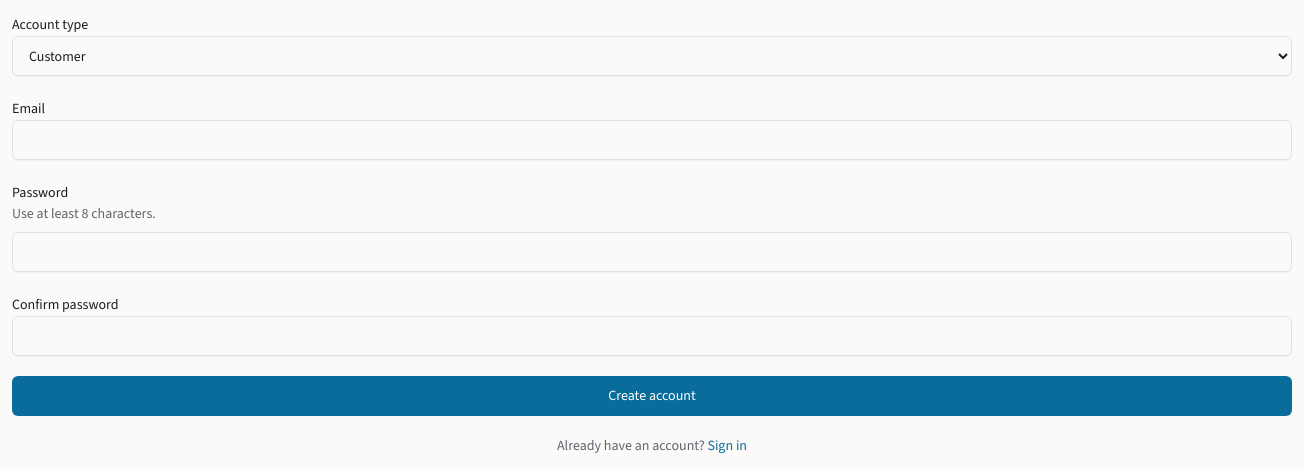
it: RegisterForm › shows loading state while submitting
In the field labelled "Email": (652, 140) [12,120,1292,160], type "new@example.com"
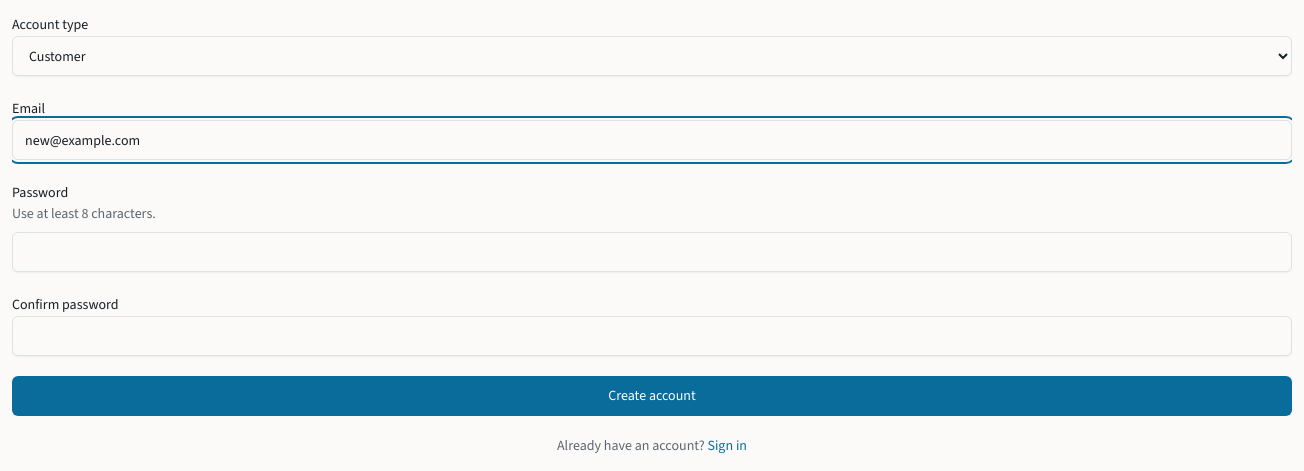
In the password field labelled "Password": (652, 252) [12,232,1292,272], type "SecurePass1!"
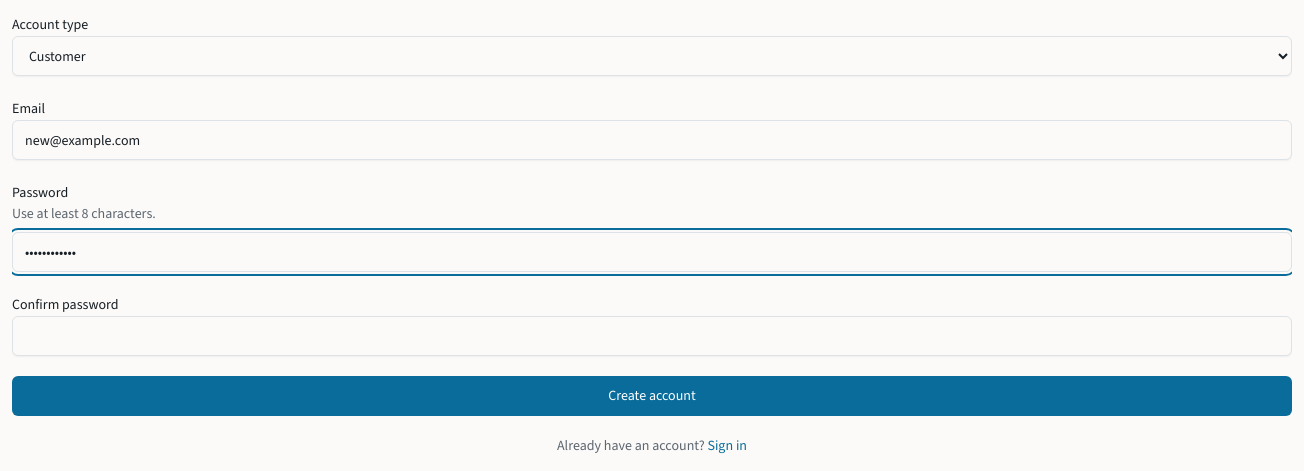
In the password field labelled "Confirm password": (652, 336) [12,316,1292,356], type "SecurePass1!"
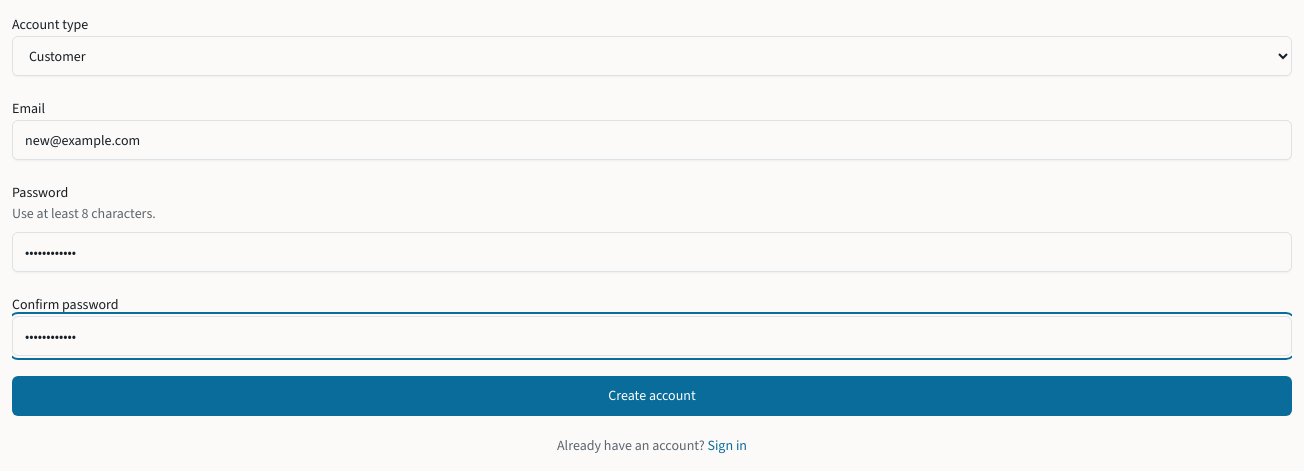
Click the button "Create account": (652, 396) [12,376,1292,416]
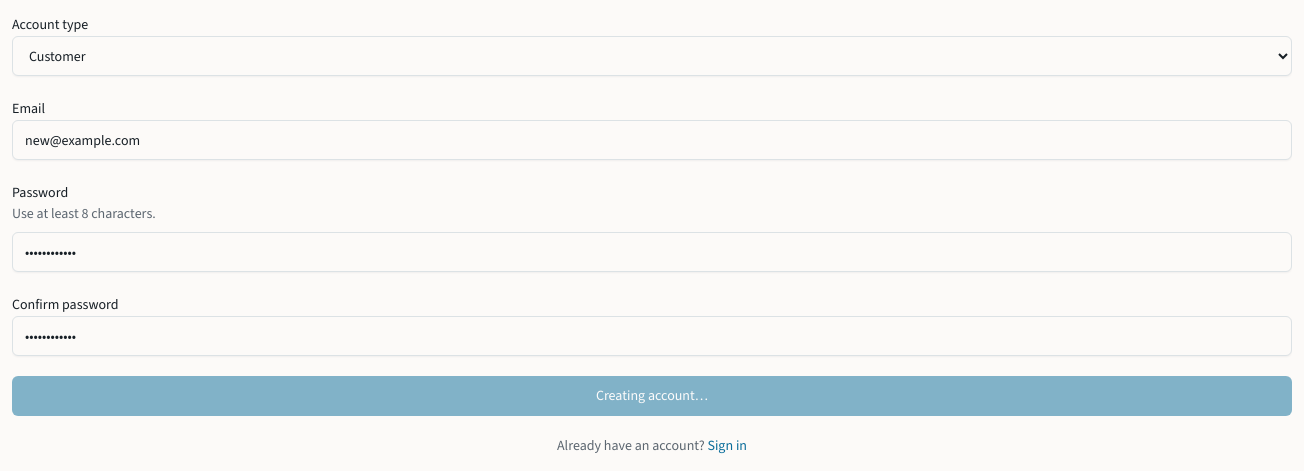
Now the button "Creating account…" is disabled, box [12,376,1292,416]
